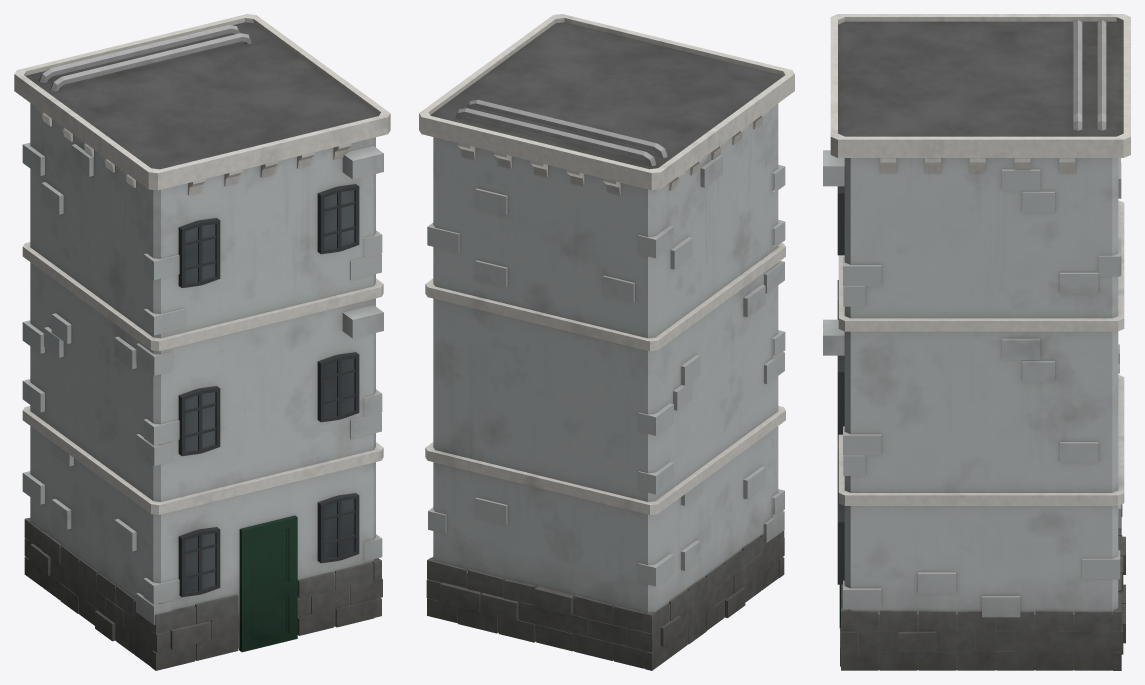
Rendered from 3Story_Small.glb.
The picture shows the model from 3 angles, left to right: view 1: azimuth 30°, elevation 25°; view 2: azimuth 150°, elevation 25°; view 3: azimuth 270°, elevation 25°; orthographic projection. The views are drawn at different scales.
Parts seen in each view (by area): view 1: 3Story_Small_high; view 2: 3Story_Small_high; view 3: 3Story_Small_high.
Part boxes in pixels (x1,y1,x2,y2): 3Story_Small_high: (14, 14, 390, 670); 3Story_Small_high: (419, 14, 794, 670); 3Story_Small_high: (823, 14, 1130, 670).
Size of the model in its own units: 1.91 by 3.85 by 1.97.
Materials: 2 (2 with a texture image).
